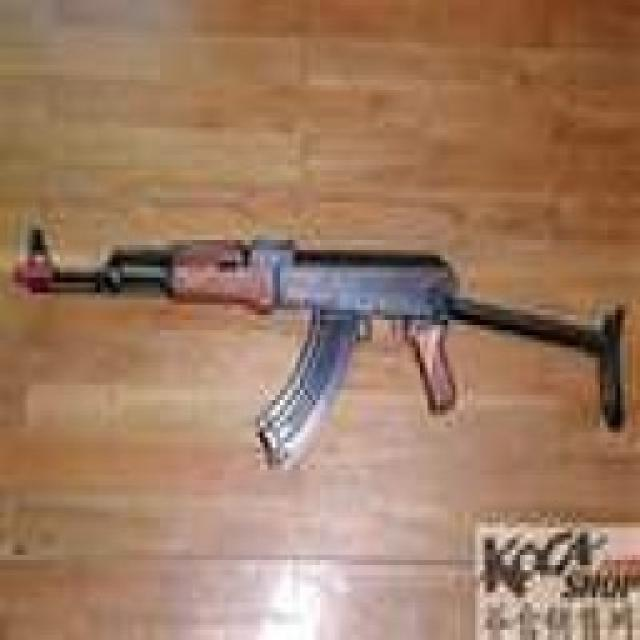long weapon: (0, 225, 630, 449)
